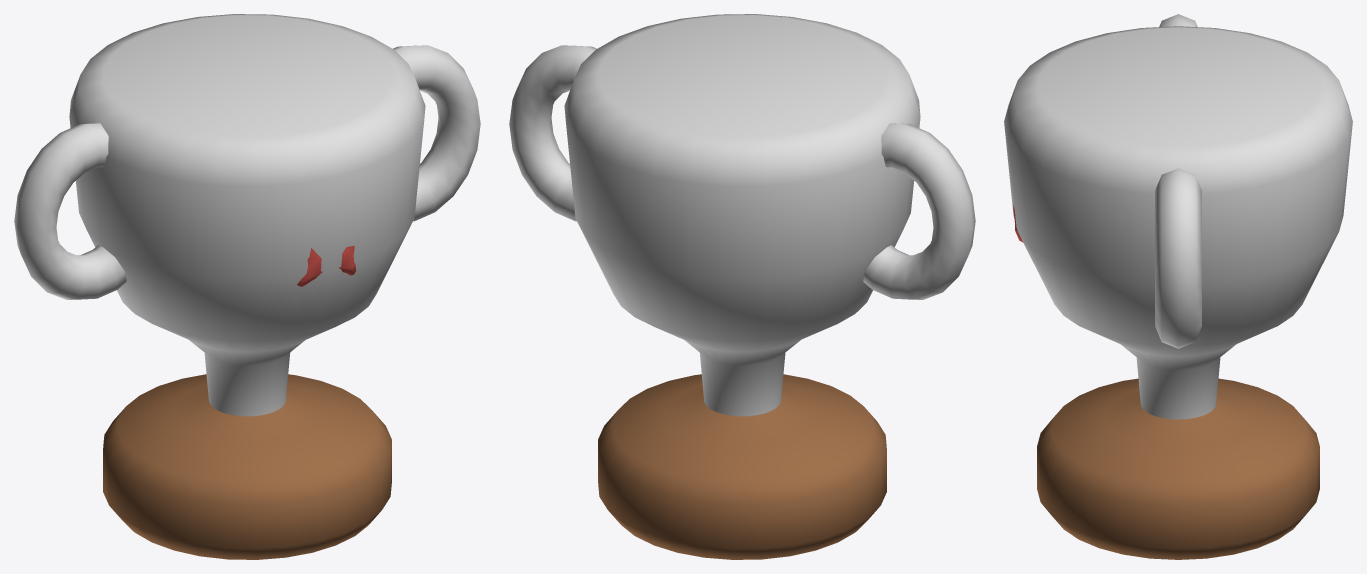
Rendered from trophy.glb.
The picture shows the model from 3 angles, left to right: view 1: azimuth 30°, elevation 25°; view 2: azimuth 150°, elevation 25°; view 3: azimuth 270°, elevation 25°; orthographic projection. The views are drawn at different scales.
Visible parts, largest first — view 1: trophy; view 2: trophy; view 3: trophy.
Part boxes in pixels (x1,y1,x2,y2): trophy: (14,14,480,559); trophy: (509,14,975,559); trophy: (1004,14,1352,559).
Bounding box in the file's own units: 1 × 0.8909 × 0.6727.
